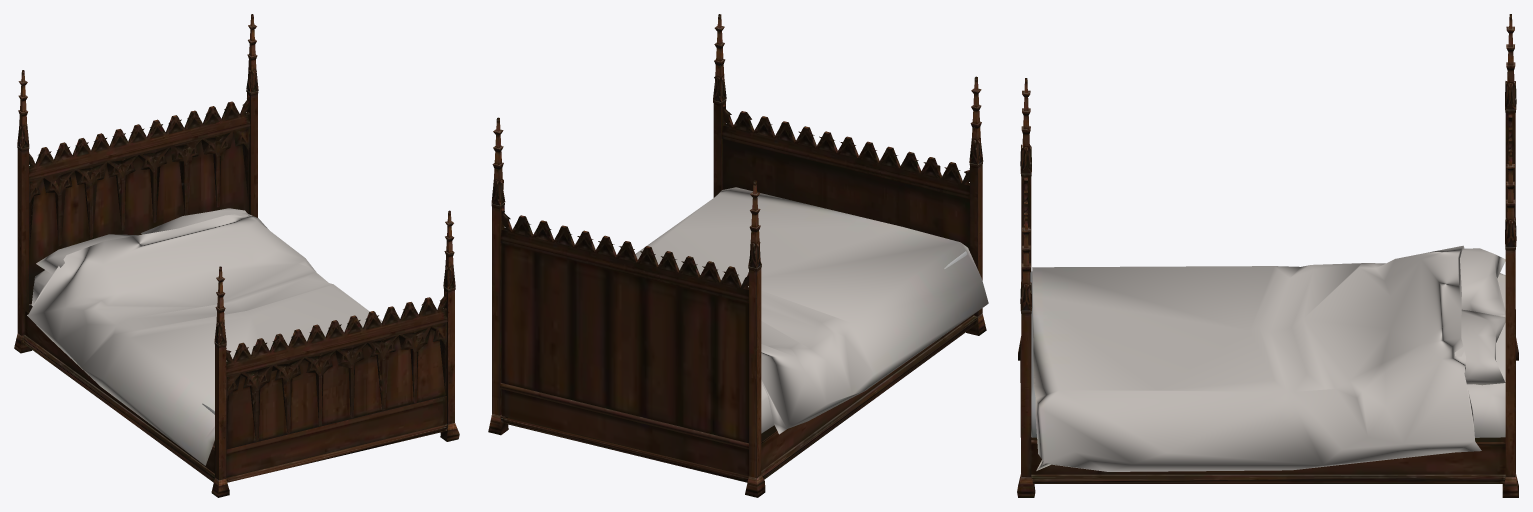
Rendered from GothicBed_01.d64887bd.glb.
The picture shows the model from 3 angles, left to right: view 1: azimuth 30°, elevation 25°; view 2: azimuth 150°, elevation 25°; view 3: azimuth 270°, elevation 25°; orthographic projection. The views are drawn at different scales.
Visible parts, largest first — view 1: GothicBed_01; view 2: GothicBed_01; view 3: GothicBed_01.
Boxes of the visible parts, x1=… form: GothicBed_01: x1=14, y1=14, x2=459, y2=497; GothicBed_01: x1=488, y1=14, x2=988, y2=497; GothicBed_01: x1=1017, y1=14, x2=1518, y2=497.
Bounding box in the file's own units: 1.49 × 1.53 × 2.04.
Materials: 1 (1 with a texture image).
